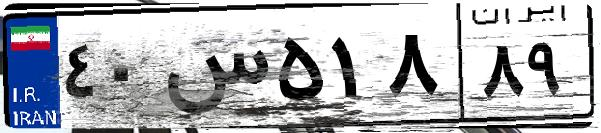0: (110, 28, 158, 98)
1: (330, 28, 385, 110)
4: (57, 26, 110, 100)
5: (270, 28, 330, 110)
8: (385, 28, 445, 110), (475, 38, 525, 113)
9: (525, 38, 570, 115)
س: (158, 20, 270, 120)
